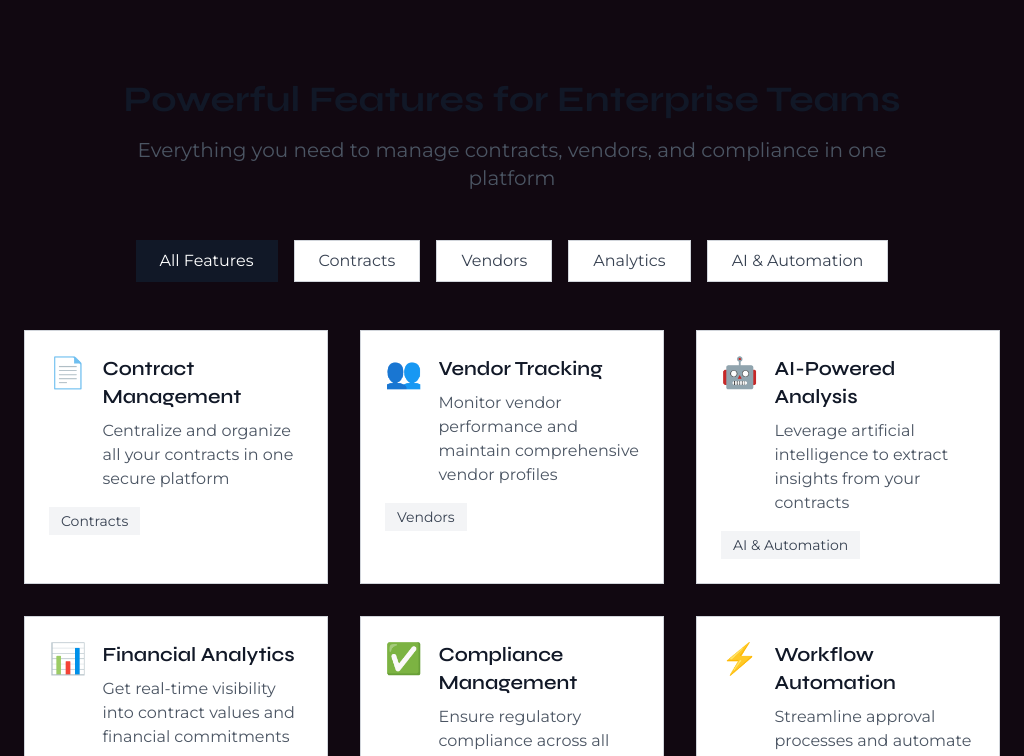
FeatureCards Component › Category Filtering › should filter features by vendors category
The width and height of the screenshot is (1024, 756).
Click the button with aria-label "Filter by Vendors" at (494, 261), box [436,240,552,282]
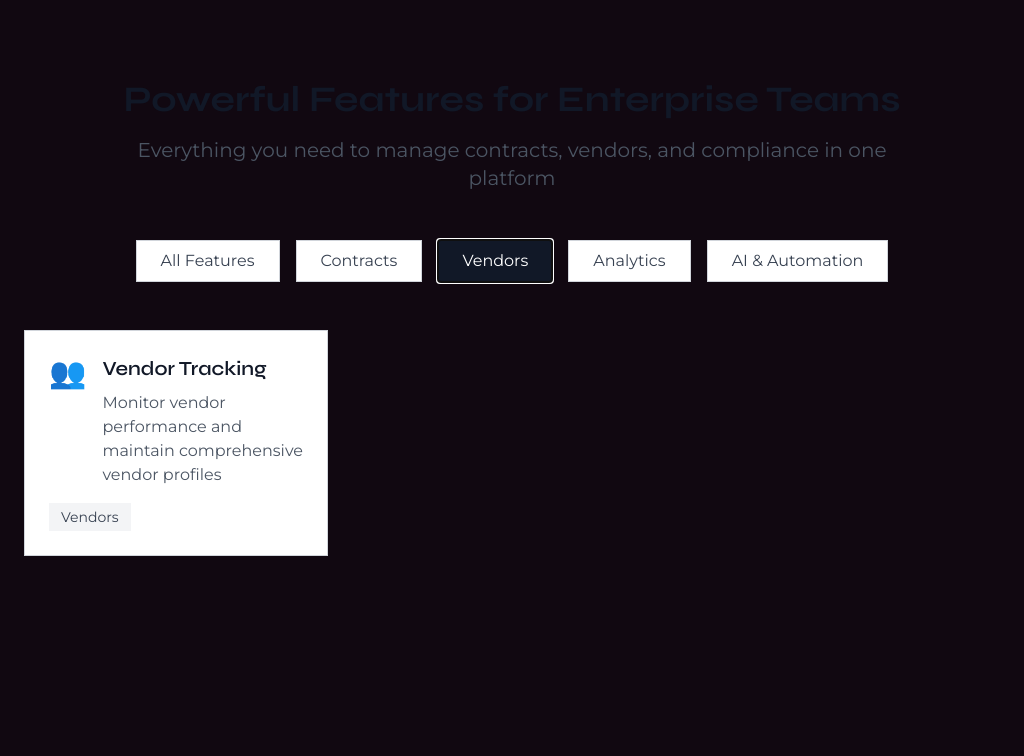
Expected: the heading "Vendor Tracking" is shown, [102,356,267,381]
Expected: the heading "Contract Management" is gone
Expected: the heading "AI-Powered Analysis" is gone
